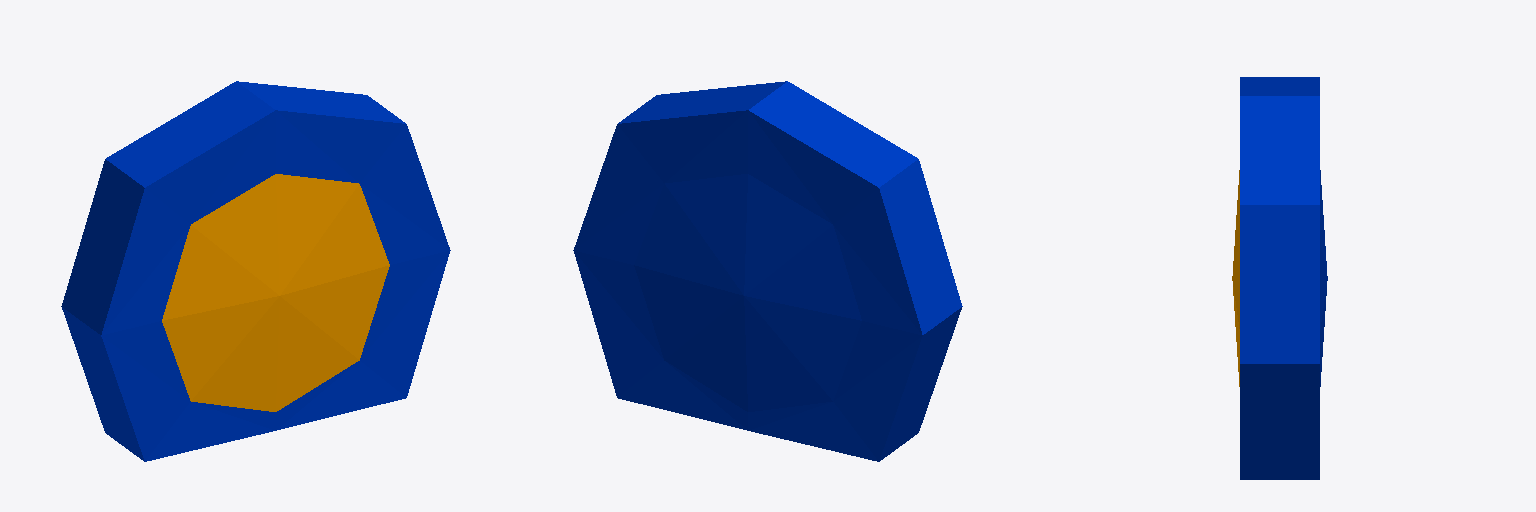
The model's file is side.obj.
3 views of the same model, side by side, from view 1: azimuth 30°, elevation 25°; view 2: azimuth 150°, elevation 25°; view 3: azimuth 270°, elevation 25° (orthographic).
Visible parts, largest first — view 1: side_Cube; view 2: side_Cube; view 3: side_Cube.
Part boxes in pixels (x1,y1,x2,y2): side_Cube: (61, 81, 450, 461); side_Cube: (573, 81, 962, 461); side_Cube: (1232, 77, 1327, 479).
Bounding box in the file's own units: 3.39 × 2.98 × 0.8021.